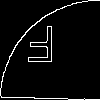F: (25, 25, 57, 72)
